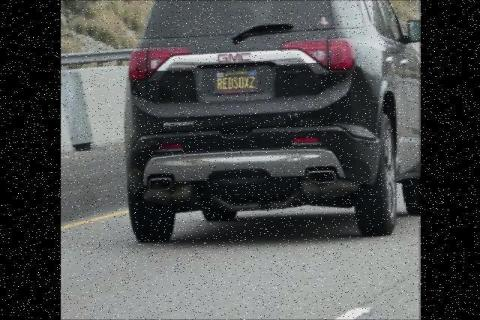LicensePlate: (216, 68, 258, 96)
